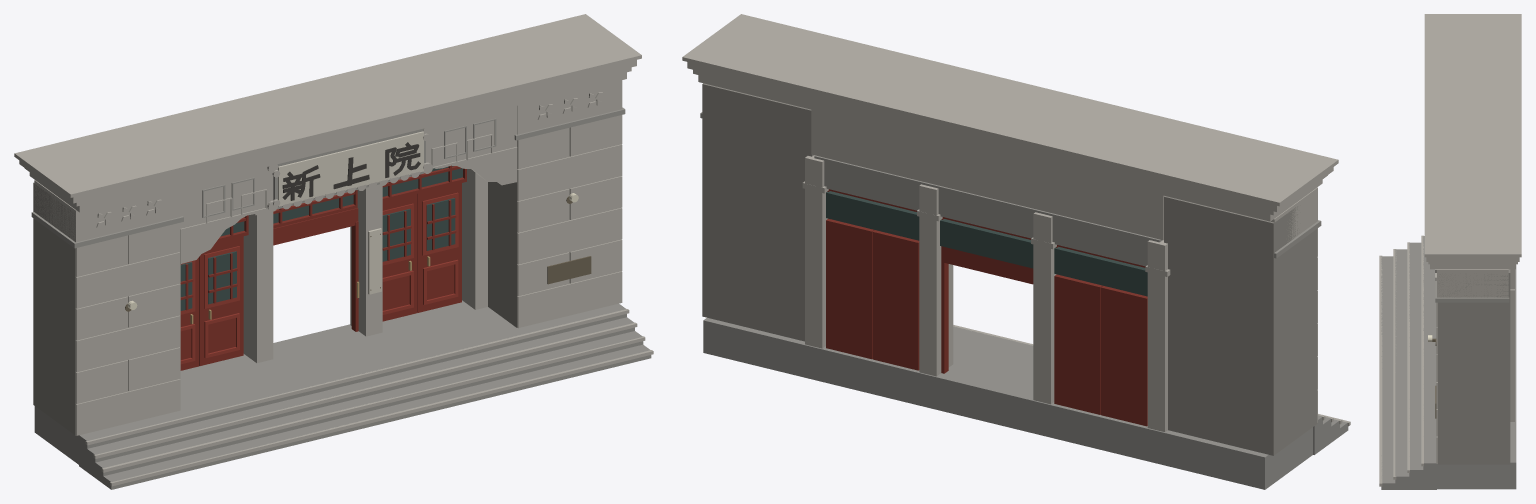
Rendered from xuhui-jiaotong-new-upper-hall-inscribed-entrance-lod.glb.
The picture shows the model from 3 angles, left to right: view 1: azimuth 30°, elevation 25°; view 2: azimuth 150°, elevation 25°; view 3: azimuth 270°, elevation 25°; orthographic projection. The views are drawn at different scales.
Parts seen in each view (by area): view 1: 交通大学徐汇校区新上院题名门廊; view 2: 交通大学徐汇校区新上院题名门廊; view 3: 交通大学徐汇校区新上院题名门廊.
Part boxes in pixels (<box>): 交通大学徐汇校区新上院题名门廊: <box>14,14,653,489</box>; 交通大学徐汇校区新上院题名门廊: <box>682,14,1350,489</box>; 交通大学徐汇校区新上院题名门廊: <box>1379,14,1521,489</box>.
Size of the model in its own units: 13.07 by 6.14 by 3.27.
